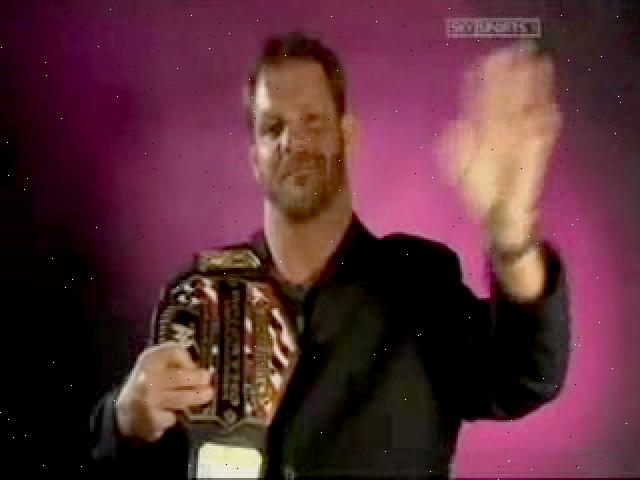L: (92, 30, 570, 478)
